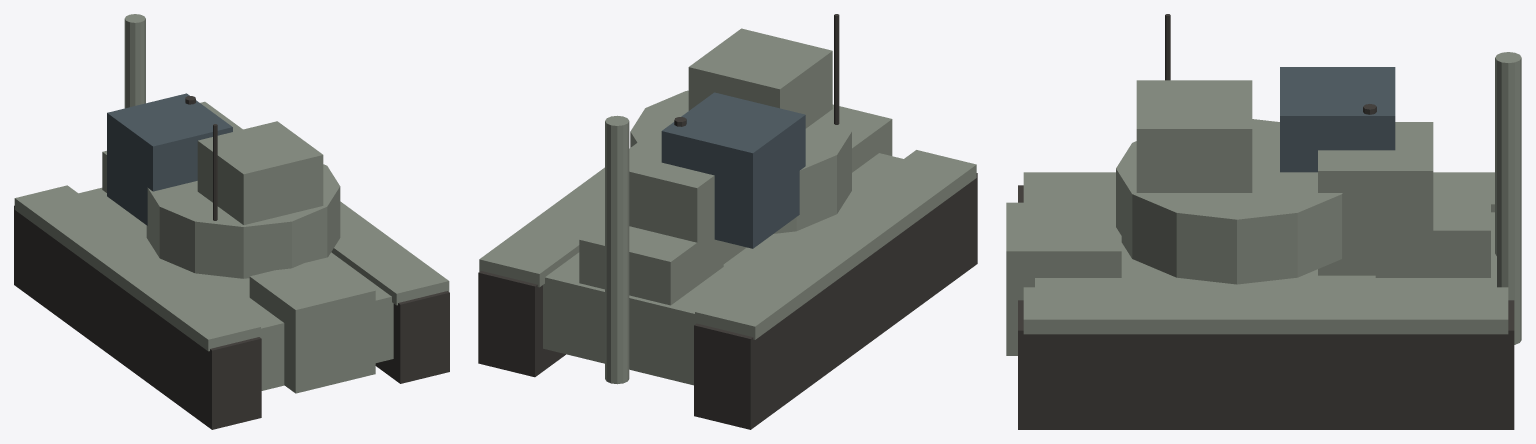
File: tank_demo.glb
3 renders of one model, left to right at view 1: azimuth 30°, elevation 25°; view 2: azimuth 150°, elevation 25°; view 3: azimuth 270°, elevation 25°, orthographic. The views are drawn at different scales.
Parts seen in each view (by area): view 1: TrackL, FenderL, Turret, Rear, Cupola, Optics, Hull, FenderR, TrackR, GunBarrel, Antenna; view 2: TrackL, FenderL, Optics, Hull, Cupola, Mantlet, GunBarrel, Turret, FenderR, TrackR, UpperGlacis, Rear (+1 smaller); view 3: TrackR, FenderR, Turret, Mantlet, Cupola, Optics, Rear, UpperGlacis, GunBarrel, Hull, FenderL.
Boxes of the visible parts, x1,y1,x2,y2 form: TrackL: (14, 205, 261, 429); FenderL: (14, 185, 260, 351); Turret: (146, 164, 340, 278); Rear: (249, 257, 375, 393); Cupola: (197, 121, 323, 224); Optics: (107, 93, 232, 225); Hull: (79, 187, 393, 390); FenderR: (331, 201, 449, 305); TrackR: (375, 291, 449, 383); GunBarrel: (124, 14, 145, 108); Antenna: (213, 124, 217, 220); TrackL: (694, 173, 977, 429); FenderL: (695, 150, 976, 339); Optics: (661, 92, 805, 248); Hull: (543, 153, 903, 385); Cupola: (688, 28, 832, 128); Mantlet: (629, 127, 746, 283); GunBarrel: (605, 115, 629, 384); Turret: (630, 90, 851, 233); FenderR: (479, 167, 604, 287); TrackR: (478, 271, 565, 377); UpperGlacis: (579, 221, 723, 305); Rear: (832, 104, 892, 172); TrackR: (1018, 300, 1514, 429); FenderR: (1023, 287, 1508, 334); Turret: (1116, 119, 1342, 284); Mantlet: (1318, 122, 1433, 275); Cupola: (1136, 80, 1252, 192); Optics: (1280, 67, 1395, 172); Rear: (1006, 202, 1121, 355); UpperGlacis: (1375, 181, 1490, 277); GunBarrel: (1495, 52, 1521, 344); Hull: (1035, 212, 1496, 287); FenderL: (1023, 172, 1494, 212).
Size of what is drawn, in the model's own units: 3.02 by 2.95 by 4.46.
